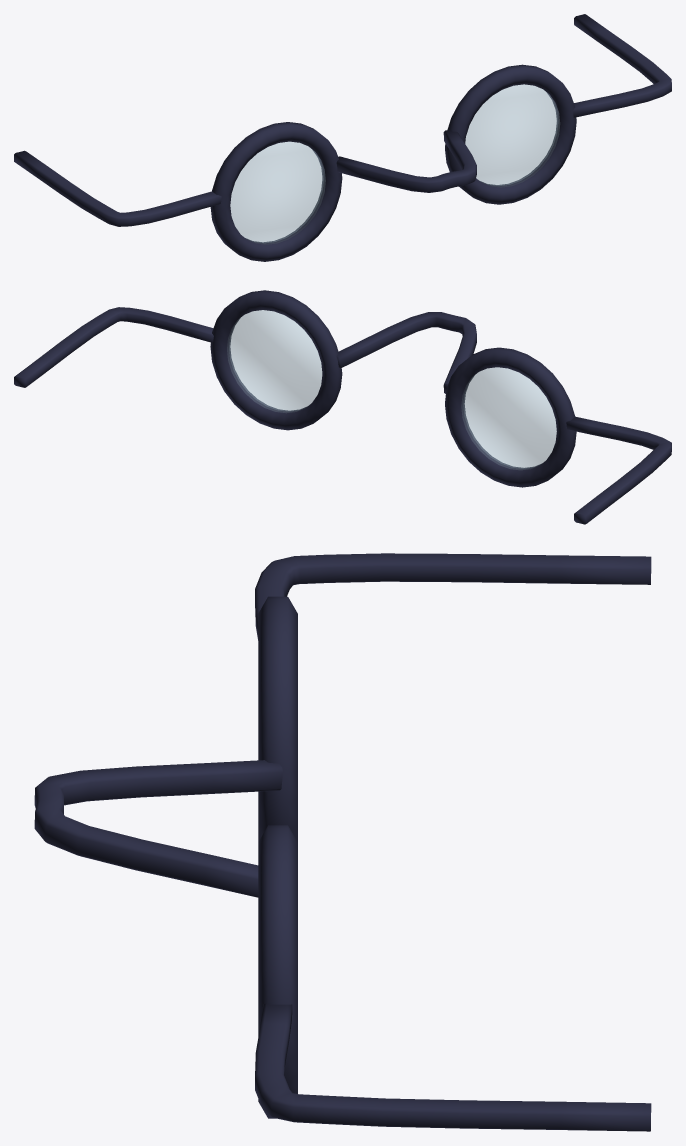
The model's file is round_glasses-fox.glb.
The picture shows the model from 3 angles, top to bottom: view 1: azimuth 30°, elevation 25°; view 2: azimuth 150°, elevation 25°; view 3: azimuth 270°, elevation 25°; orthographic projection. The views are drawn at different scales.
Visible parts, largest first — view 1: lens.001, lens, rim.001, rim, temple.001, temple, bridge; view 2: lens, lens.001, rim, rim.001, temple, temple.001, bridge; view 3: bridge, temple, temple.001, rim.001, rim.
Boxes of the visible parts, left/top/right/bottom form: lens.001: left=230, top=141, right=325, bottom=244; lens: left=465, top=84, right=559, bottom=187; rim.001: left=210, top=122, right=342, bottom=261; rim: left=445, top=64, right=576, bottom=204; temple.001: left=14, top=150, right=221, bottom=226; temple: left=573, top=14, right=671, bottom=117; bridge: left=336, top=130, right=476, bottom=192; lens: left=227, top=310, right=322, bottom=412; lens.001: left=461, top=367, right=556, bottom=469; rim: left=210, top=290, right=342, bottom=430; rim.001: left=445, top=347, right=576, bottom=487; temple: left=14, top=307, right=213, bottom=387; temple.001: left=566, top=416, right=671, bottom=524; bridge: left=336, top=312, right=476, bottom=393; bridge: left=34, top=760, right=282, bottom=897; temple: left=255, top=1003, right=651, bottom=1131; temple.001: left=255, top=553, right=651, bottom=640; rim.001: left=258, top=596, right=297, bottom=841; rim: left=258, top=825, right=297, bottom=1118.
Bounding box in the file's own units: 1.33 × 0.2946 × 0.6196.
